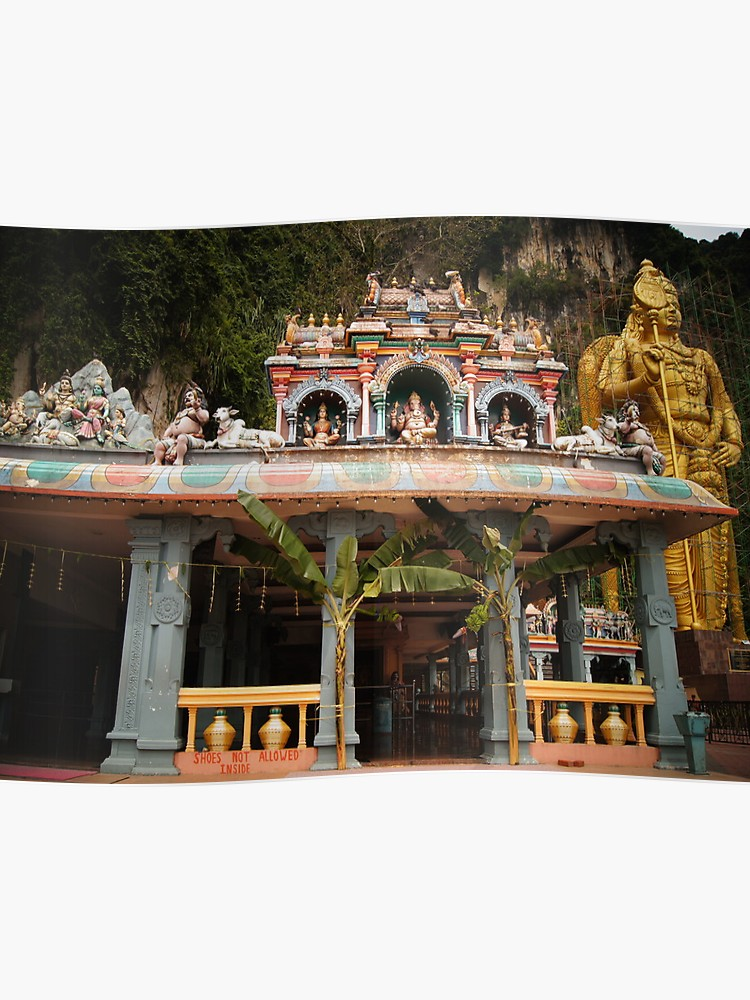Hindu Temple: (6, 275, 725, 750)
